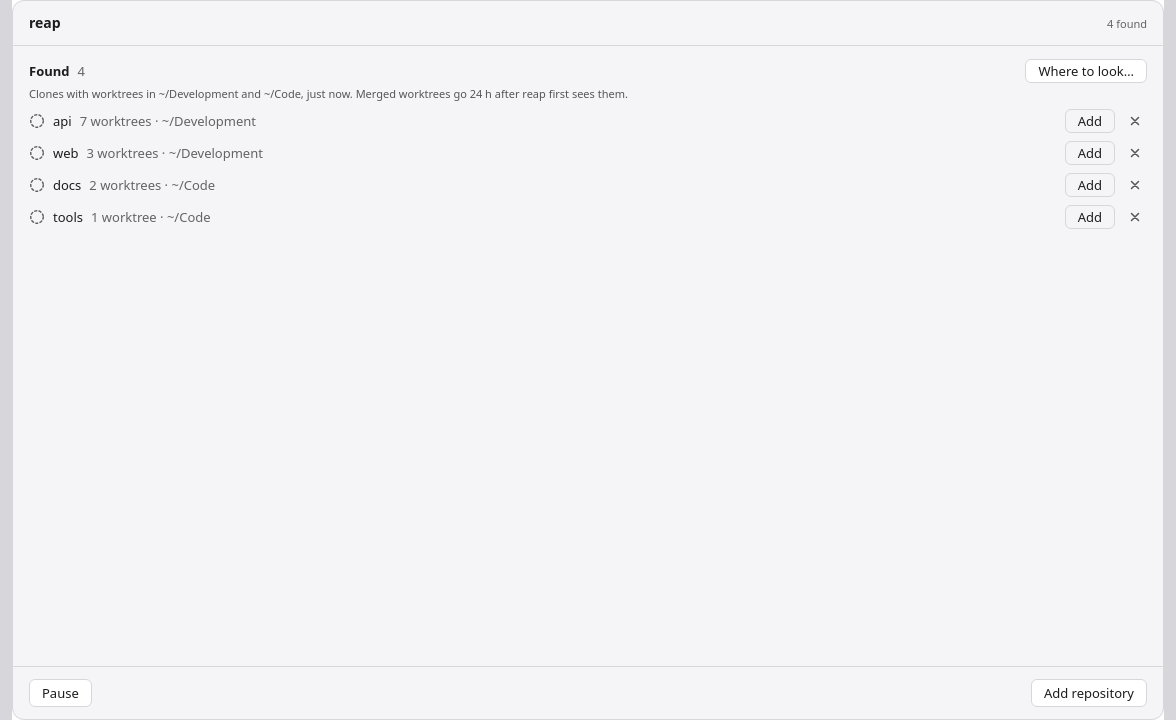
Test: Popover Add and Skip › moves an added clone into the list and keeps Found open under it
Click the button "Add" in the row of "api".
click(1090, 121)  # box [1065,109,1115,133]
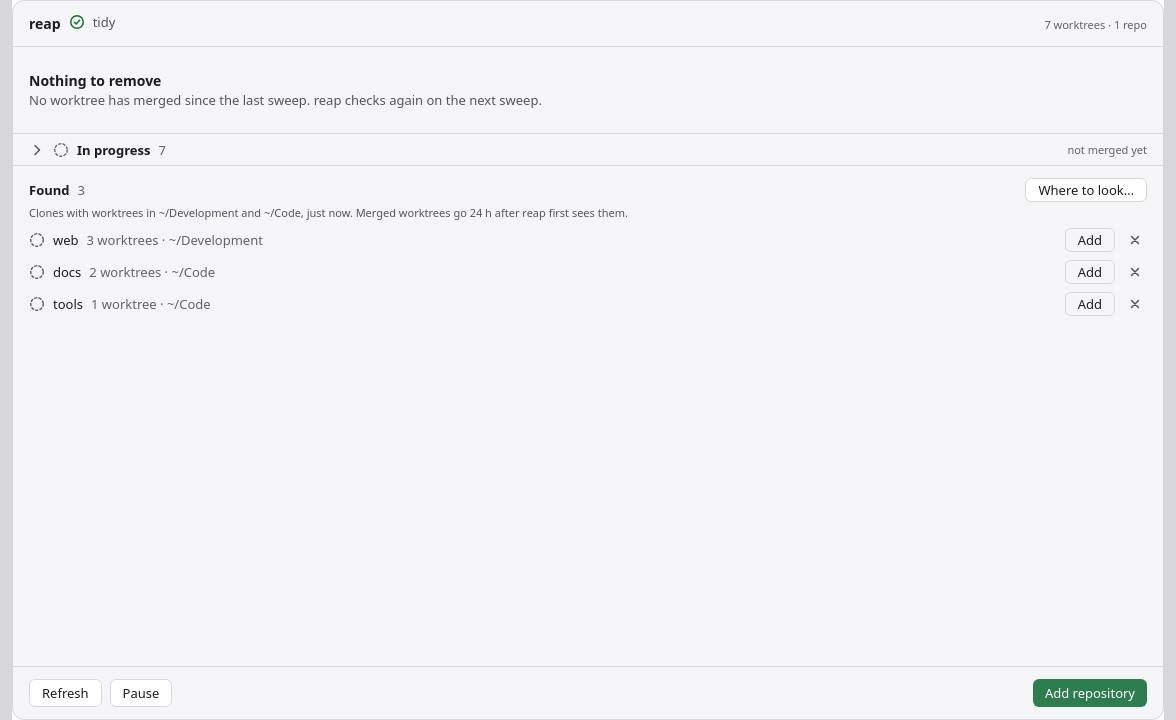
Check: the heading "Found 3" is shown, box [29,181,85,199]
Check: the text "api" is gone
Check: the text "7 worktrees · 1 repo" is shown, box [1044,16,1147,32]
